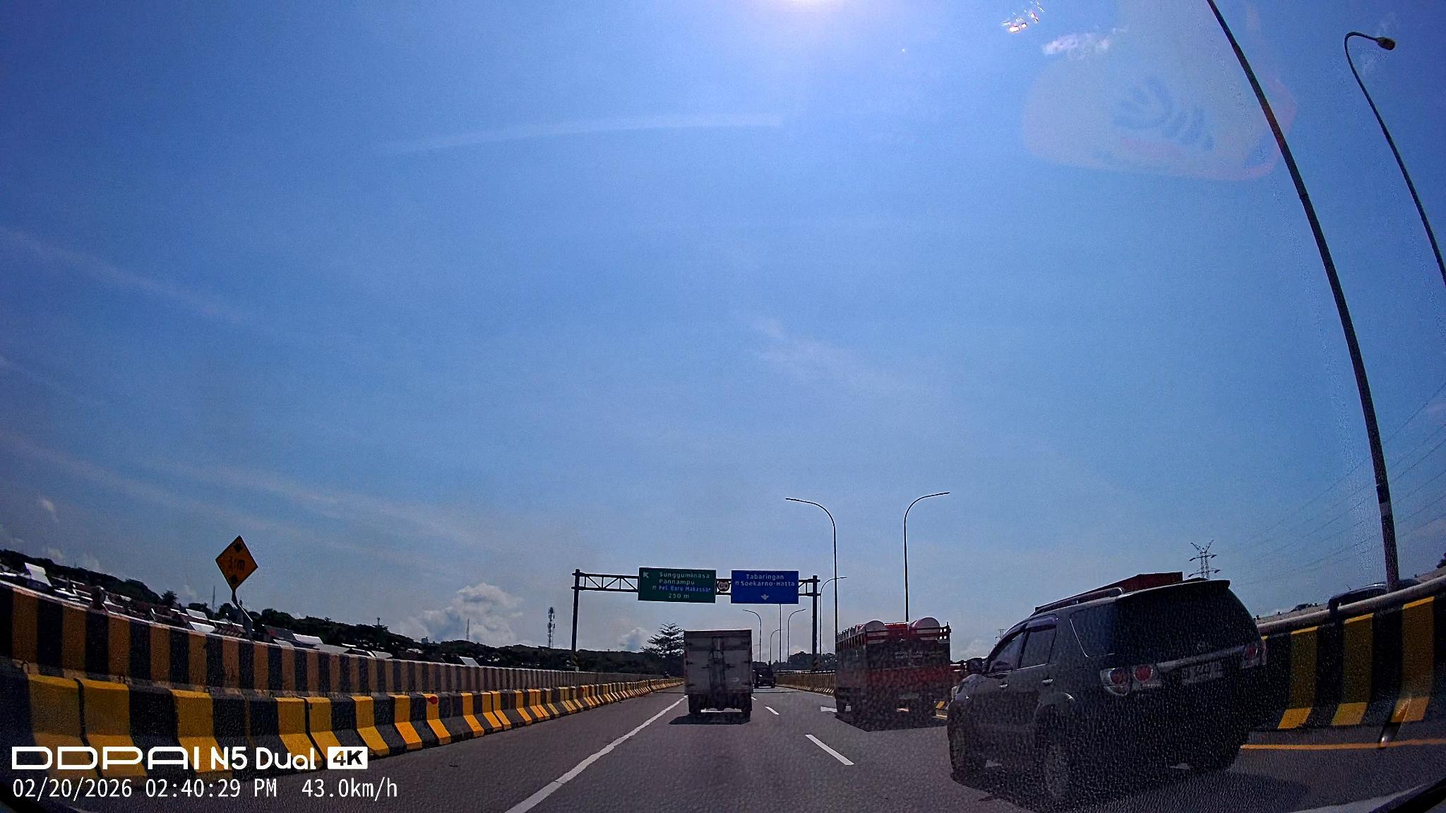rambu_teks: (638, 567, 717, 604), (731, 569, 799, 605)
